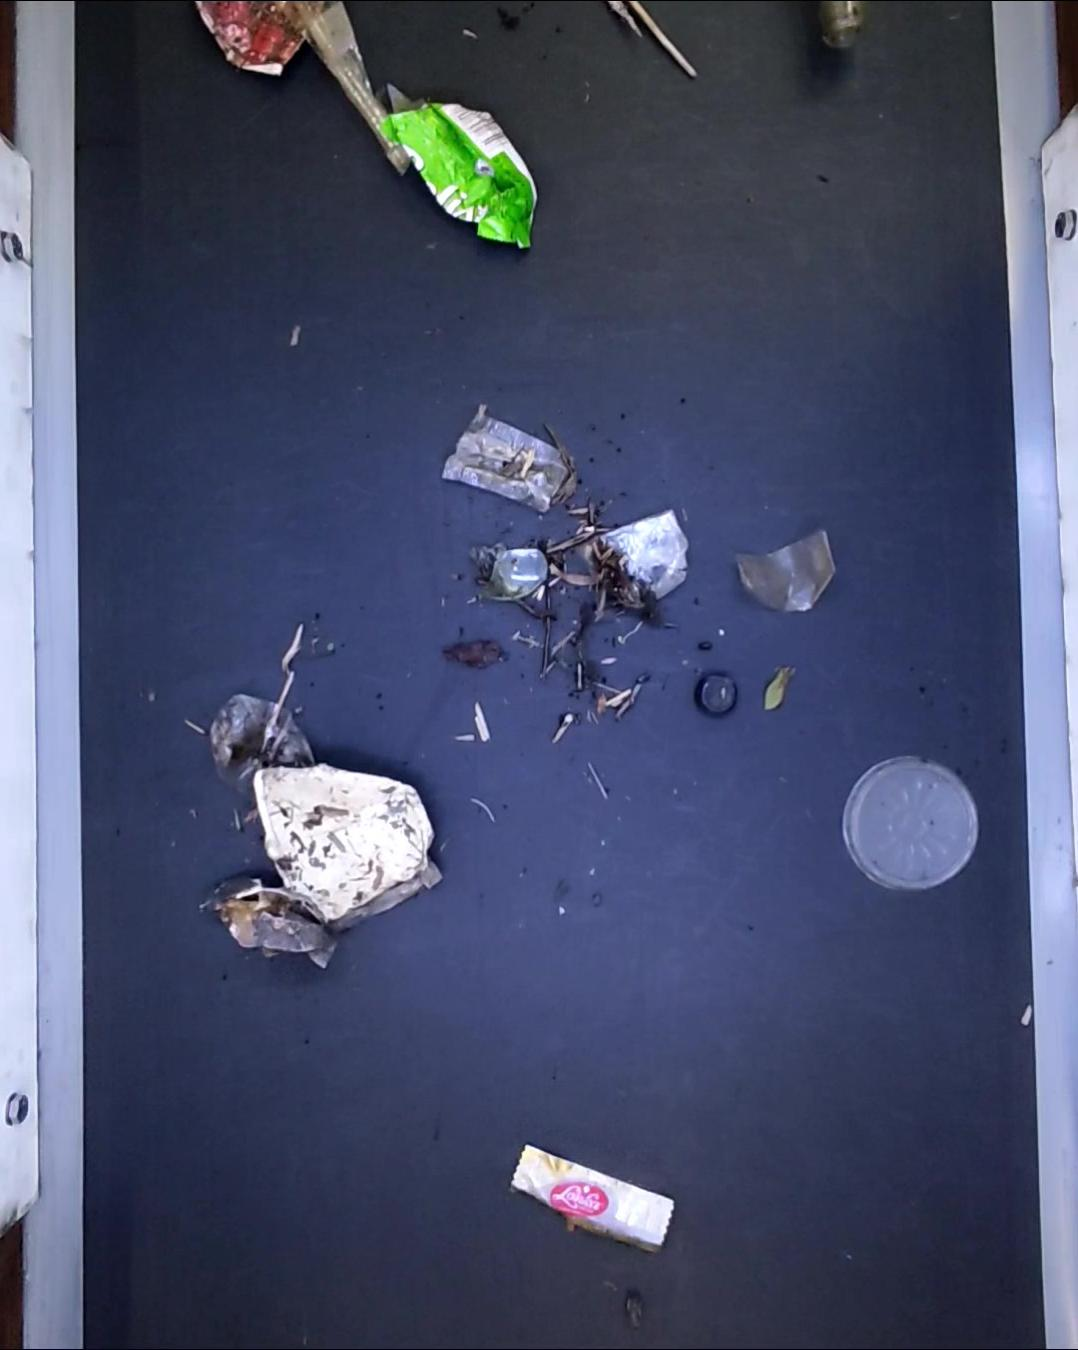Plastic folies of stukken daarvan 2.5- 50 cm: (277, 0, 413, 179), (436, 405, 569, 520), (204, 693, 311, 801), (726, 527, 834, 612), (596, 511, 685, 601)
Snoep snack en chips verpakkingen: (378, 85, 533, 246), (507, 1143, 679, 1255)
